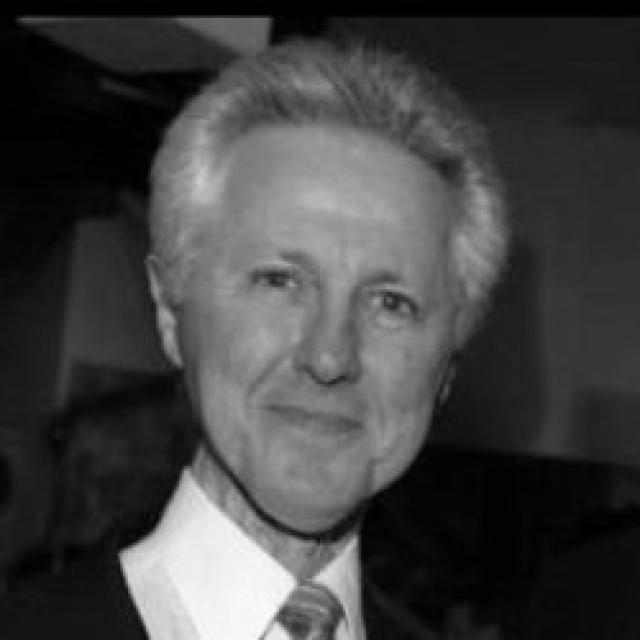real: (166, 120, 462, 534), (230, 242, 417, 341)
